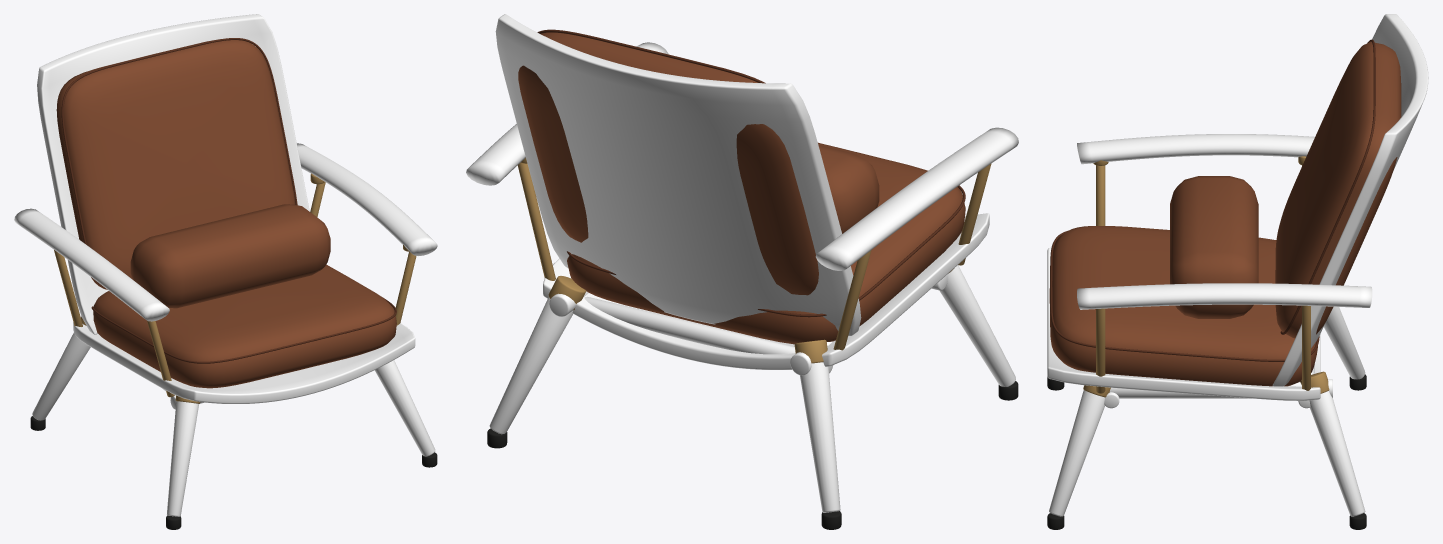
Rendered from asset.glb.
3 views of the same model, side by side, from view 1: azimuth 30°, elevation 25°; view 2: azimuth 150°, elevation 25°; view 3: azimuth 270°, elevation 25° (orthographic). The views are drawn at different scales.
Parts seen in each view (by area): view 1: back_cushion, seat_cushion, lumbar_cushion, timber_back, timber_seat, arm_left, arm_right, leg_front_left, leg_front_right, leg_rear_left, back_cushion_piping, seat_cushion_piping (+3 smaller); view 2: timber_back, back_cushion, seat_cushion, timber_seat, arm_left, leg_rear_left, cross_brace_rear, lumbar_cushion, leg_rear_right, leg_front_left, arm_right, arm_support_rear_right (+4 smaller); view 3: seat_cushion, back_cushion, lumbar_cushion, timber_back, arm_right, arm_left, timber_seat, leg_front_right, leg_rear_right, leg_rear_left, seat_cushion_piping, underframe_right (+4 smaller).
Boxes of the visible parts, x1,y1,x2,y2 form: back_cushion: [56, 39, 295, 289]; seat_cushion: [93, 264, 396, 388]; lumbar_cushion: [130, 204, 330, 308]; timber_back: [37, 14, 309, 334]; timber_seat: [73, 322, 415, 403]; arm_left: [14, 208, 169, 321]; arm_right: [297, 143, 437, 255]; leg_front_left: [167, 401, 198, 516]; leg_front_right: [374, 360, 435, 456]; leg_rear_left: [32, 332, 90, 420]; back_cushion_piping: [61, 38, 297, 244]; seat_cushion_piping: [91, 297, 396, 363]; timber_back: [495, 14, 861, 335]; back_cushion: [518, 32, 818, 295]; seat_cushion: [567, 142, 965, 344]; timber_seat: [543, 213, 989, 369]; arm_left: [815, 127, 1018, 270]; leg_rear_left: [800, 362, 840, 512]; cross_brace_rear: [584, 296, 833, 373]; lumbar_cushion: [818, 145, 879, 233]; leg_rear_right: [489, 297, 573, 434]; leg_front_left: [939, 265, 1015, 386]; arm_right: [466, 42, 668, 185]; arm_support_rear_right: [517, 162, 555, 280]; seat_cushion: [1049, 226, 1317, 386]; back_cushion: [1275, 42, 1401, 338]; lumbar_cushion: [1170, 176, 1258, 318]; timber_back: [1272, 14, 1428, 386]; arm_right: [1077, 283, 1372, 309]; arm_left: [1077, 134, 1314, 164]; timber_seat: [1047, 247, 1320, 400]; leg_front_right: [1049, 390, 1104, 516]; leg_rear_right: [1309, 391, 1365, 516]; leg_rear_left: [1324, 306, 1365, 379]; seat_cushion_piping: [1050, 230, 1319, 361]; underframe_right: [1109, 379, 1332, 398].
Bounding box in the file's own units: 1.09 × 1.19 × 1.07.
